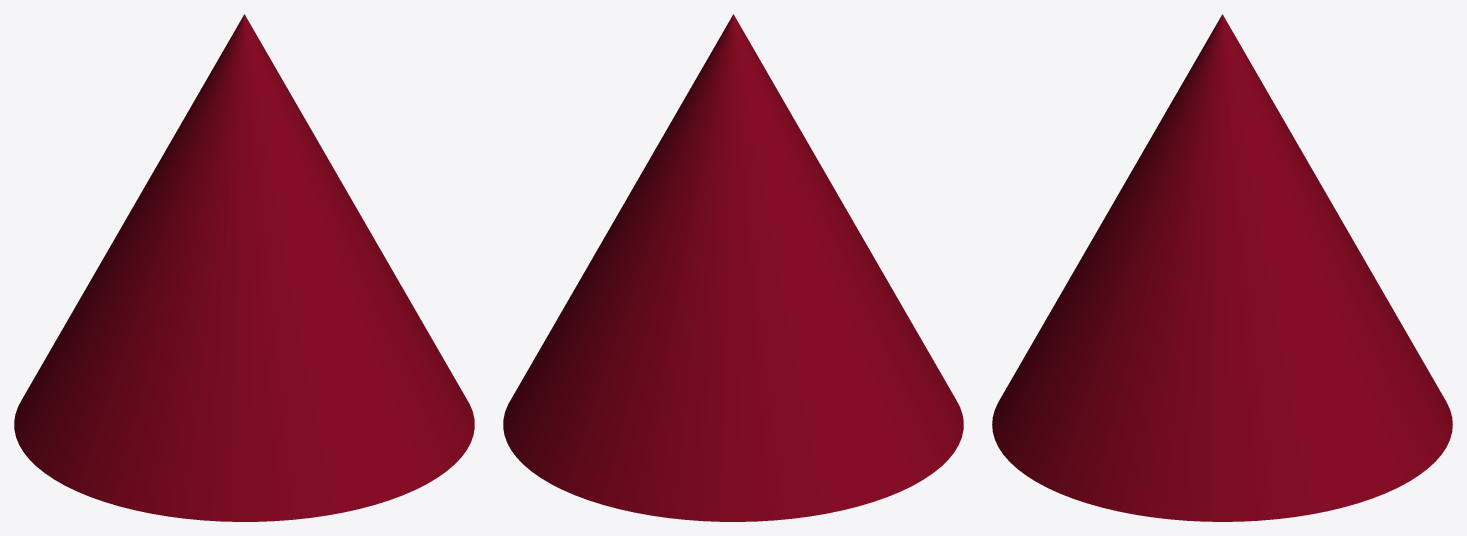
3 views of the same model, side by side, from view 1: azimuth 30°, elevation 25°; view 2: azimuth 150°, elevation 25°; view 3: azimuth 270°, elevation 25° (orthographic).
Visible parts, largest first — view 1: root; view 2: root; view 3: root.
Part boxes in pixels (box(x1,y1,x2,y2)): root: box(14, 14, 474, 521); root: box(503, 14, 963, 521); root: box(992, 14, 1452, 521).
Bounding box in the file's own units: 0.2932 × 0.2884 × 0.2932.
